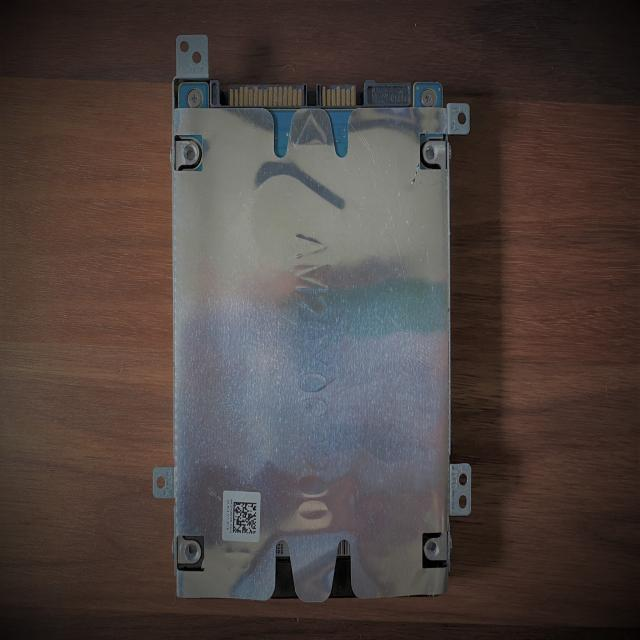PhillipsScrewHead: (421, 89, 436, 108), (187, 89, 202, 107)
